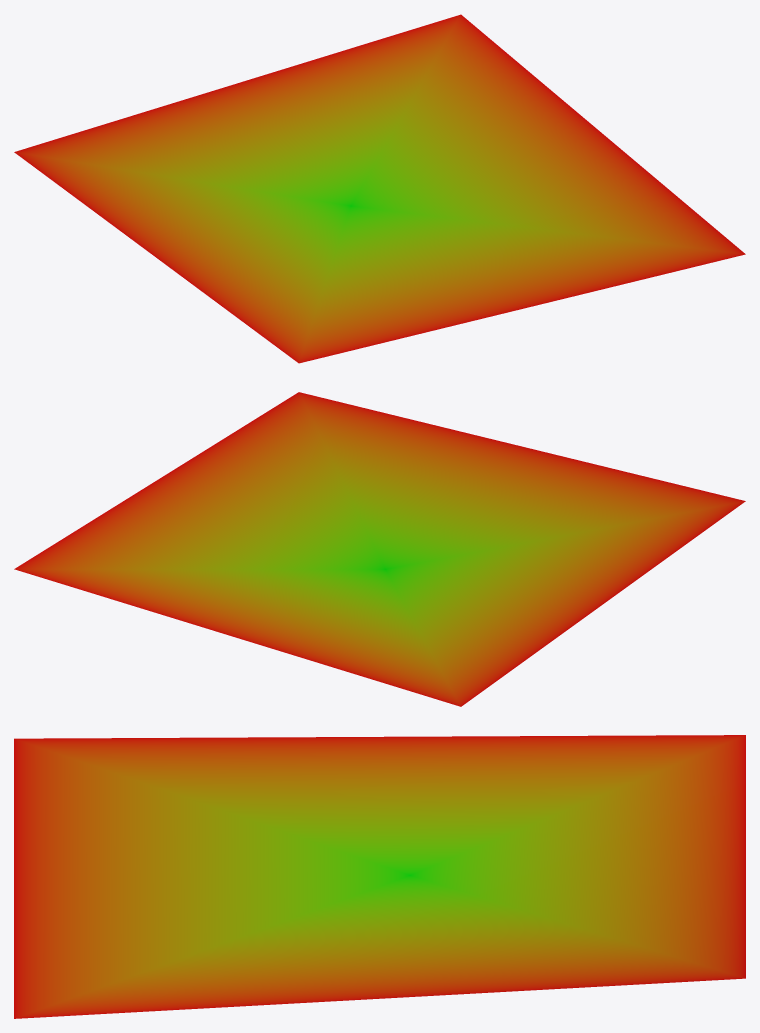
The model's file is Var4_LOD3.fbx.
3 views of the same model, one above another, from view 1: azimuth 30°, elevation 25°; view 2: azimuth 150°, elevation 25°; view 3: azimuth 270°, elevation 25° (orthographic). The views are drawn at different scales.
Visible parts, largest first — view 1: _0a67_Var4_LOD3; view 2: _0a67_Var4_LOD3; view 3: _0a67_Var4_LOD3.
Part boxes in pixels (box(x1,y1,x2,y2)): _0a67_Var4_LOD3: box(14, 14, 745, 363); _0a67_Var4_LOD3: box(14, 392, 745, 706); _0a67_Var4_LOD3: box(14, 735, 745, 1018).
Size of the model in its own units: 32.07 by 2.55 by 35.4.
